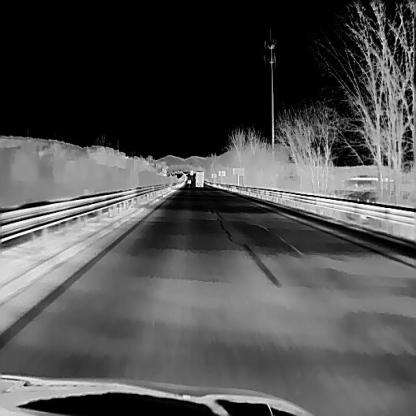car: (186, 176, 190, 183)
truck: (194, 170, 204, 186)
